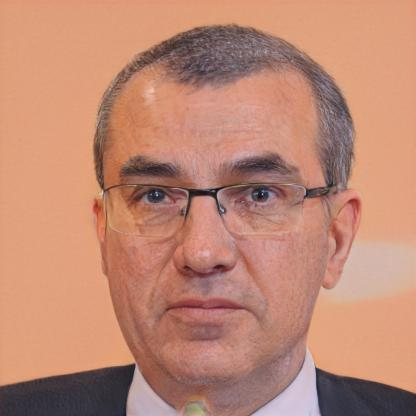glasses: (101, 176, 323, 240)
